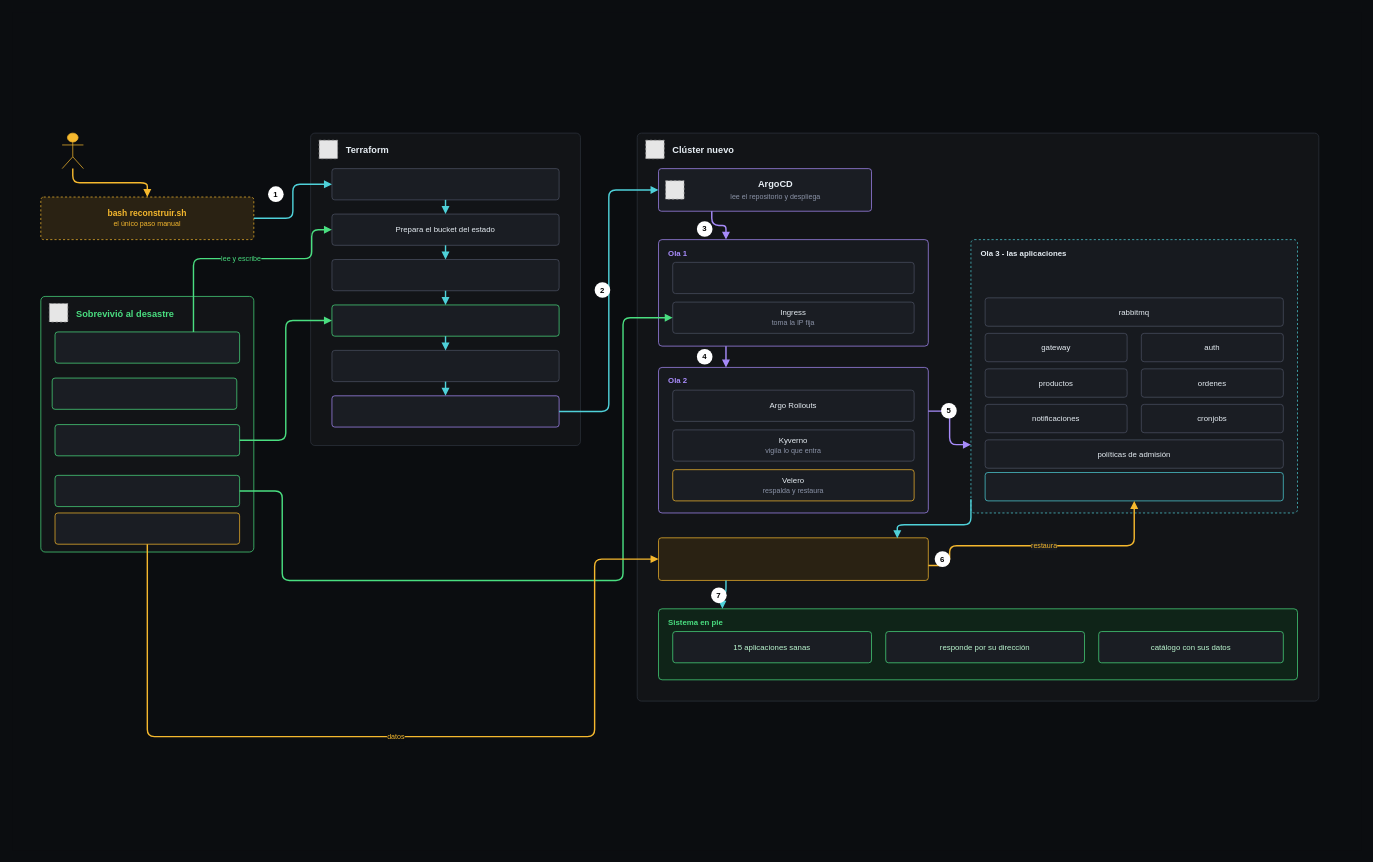
Image size: 1373x862. Some labels were removed from this diagram. Grey dashed boxes stand in for pictures. The shapes that lost their labels are listed below. From the top down, each one's centre as x and y in pixels, then its label:
At pixel 72 150: "Operador".
At pixel 445 184: "Revisa herramientas y sesión".
At pixel 445 275: "Clúster y 3 nodos".
At pixel 793 278: "Sealed Secrets abre los secretos".
At pixel 445 320: "Repone la llave de los secretos".
At pixel 147 347: "Bucket del estado".
At pixel 445 366: "Cuotas, permisos y red".
At pixel 144 393: "Permisos de los respaldos".
At pixel 445 411: "Instala ArgoCD y la app raíz".
At pixel 147 440: "Llave de los secretos".
At pixel 147 491: "IP pública fija".
At pixel 1133 486: "postgres".
At pixel 147 528: "Respaldos y copias de disco".
At pixel 793 558: "Velero devuelve los datos a la base".
